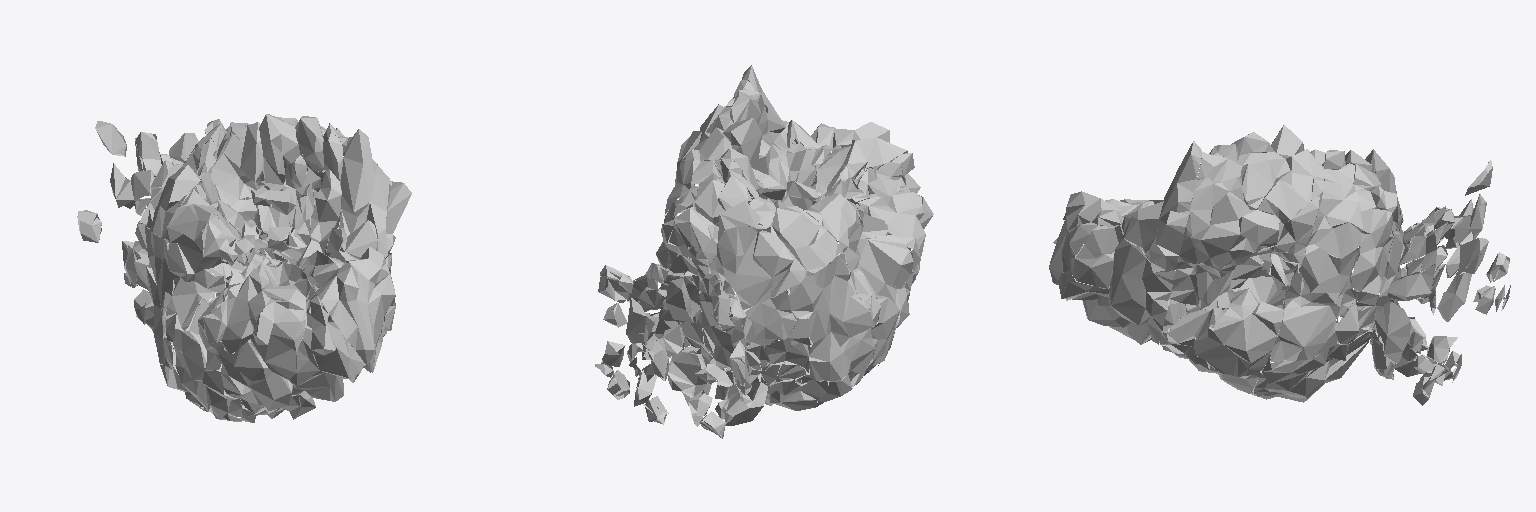
3 renders of one model, left to right at view 1: azimuth 30°, elevation 25°; view 2: azimuth 150°, elevation 25°; view 3: azimuth 270°, elevation 25°, orthographic.
Parts seen in each view (by area): view 1: tmpke5r1ct9.obj; view 2: tmpke5r1ct9.obj; view 3: tmpke5r1ct9.obj.
Part boxes in pixels (x1,y1,x2,y2): tmpke5r1ct9.obj: (77,114,411,422); tmpke5r1ct9.obj: (595,65,933,438); tmpke5r1ct9.obj: (1049,125,1510,405).
Bounding box in the file's own units: 0.8082 × 1.12 × 1.63.